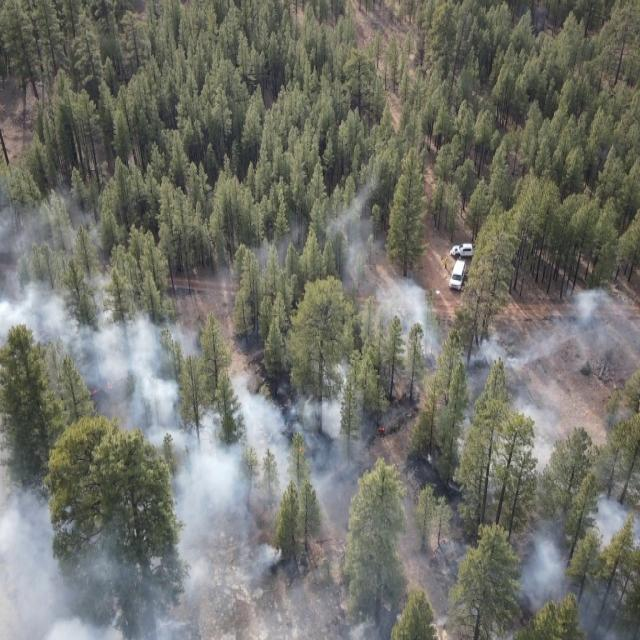fire: (371, 418, 392, 440), (293, 442, 309, 458)
smoke: (0, 179, 430, 640), (430, 292, 640, 640)
